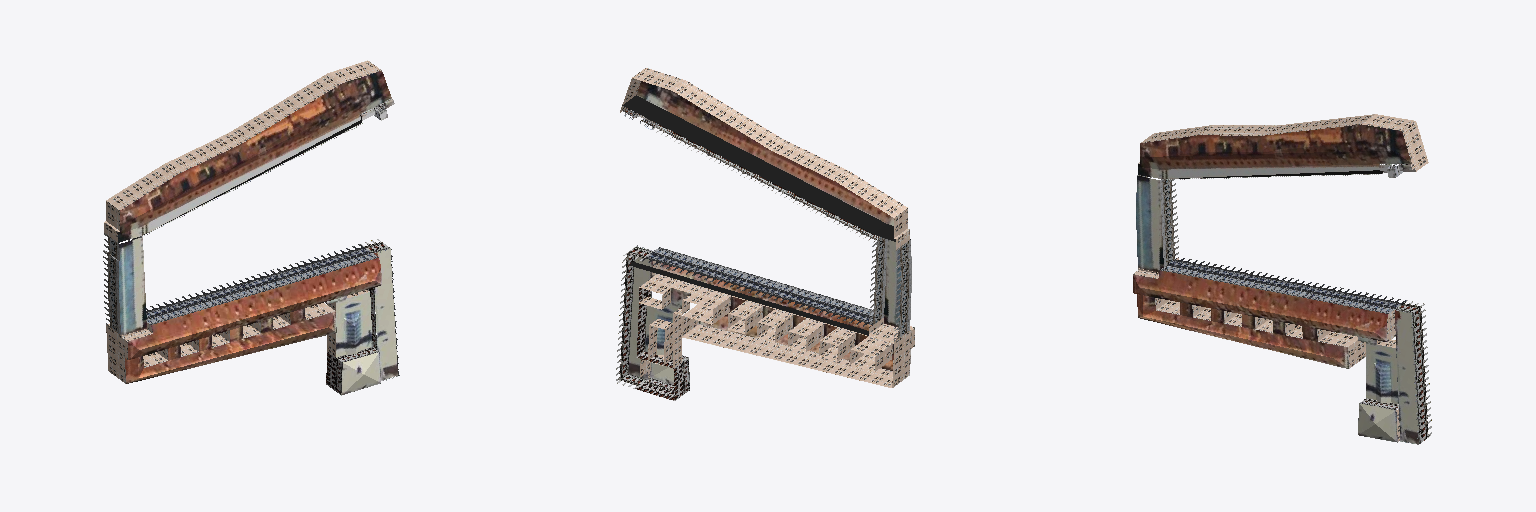
The picture shows the model from 3 angles: view 1: azimuth 30°, elevation 25°; view 2: azimuth 150°, elevation 25°; view 3: azimuth 330°, elevation 25°; orthographic projection.
Parts seen in each view (by area): view 1: group10, group5, group4, group13, group11, group1, mesh6, pCube1; view 2: group11, group4, group10, group2, group5, group13, mesh6, group9, group6, pCube1, group12, group1 (+1 smaller); view 3: group10, group5, group13, group4, group11, group1, group9, mesh6.
Part boxes in pixels (x1,y1,x2,y2): group10: (125,249,397,394); group5: (118,71,394,242); group4: (104,60,391,242); group13: (146,244,378,324); group11: (106,290,369,383); group1: (119,237,146,335); mesh6: (103,233,141,334); pCube1: (326,347,380,395); group11: (639,261,914,387); group4: (620,68,909,249); group10: (628,255,893,384); group2: (622,95,885,233); group5: (636,81,893,225); group13: (642,247,873,327); mesh6: (869,237,911,341); group9: (616,245,654,388); group6: (653,125,880,242); pCube1: (635,352,689,400); group12: (629,262,868,335); group1: (884,239,910,326); group10: (1133,270,1418,443); group5: (1138,124,1415,178); group13: (1161,257,1406,313); group4: (1138,114,1428,171); group11: (1134,258,1399,441); group1: (1136,176,1163,272); group9: (1393,300,1431,444); mesh6: (1136,175,1178,266).
Size of the model in its own units: 191 by 203 by 28.26.
Materials: 10 (9 with a texture image).